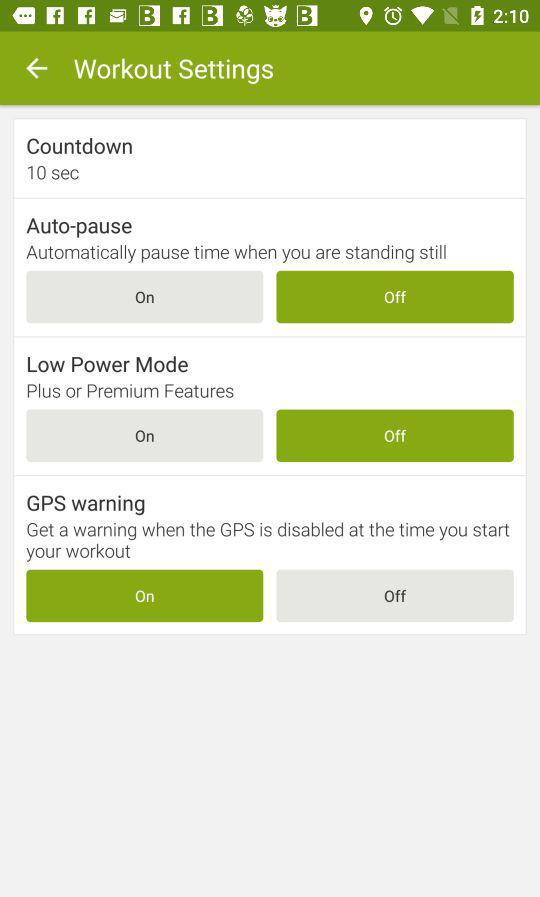Icon: (25, 58, 49, 81)
Text: (27, 523, 510, 563), (27, 245, 447, 264), (74, 59, 274, 86), (28, 383, 235, 399), (28, 355, 189, 373), (27, 495, 146, 516), (27, 218, 133, 239), (27, 138, 134, 156), (28, 165, 80, 181)
TextButton: (276, 569, 514, 623), (276, 270, 514, 324), (27, 409, 264, 463), (276, 410, 514, 463), (27, 570, 264, 623), (27, 271, 264, 324)
Toolbar: (1, 33, 540, 105)
UpperTaskBar: (1, 1, 540, 33)
